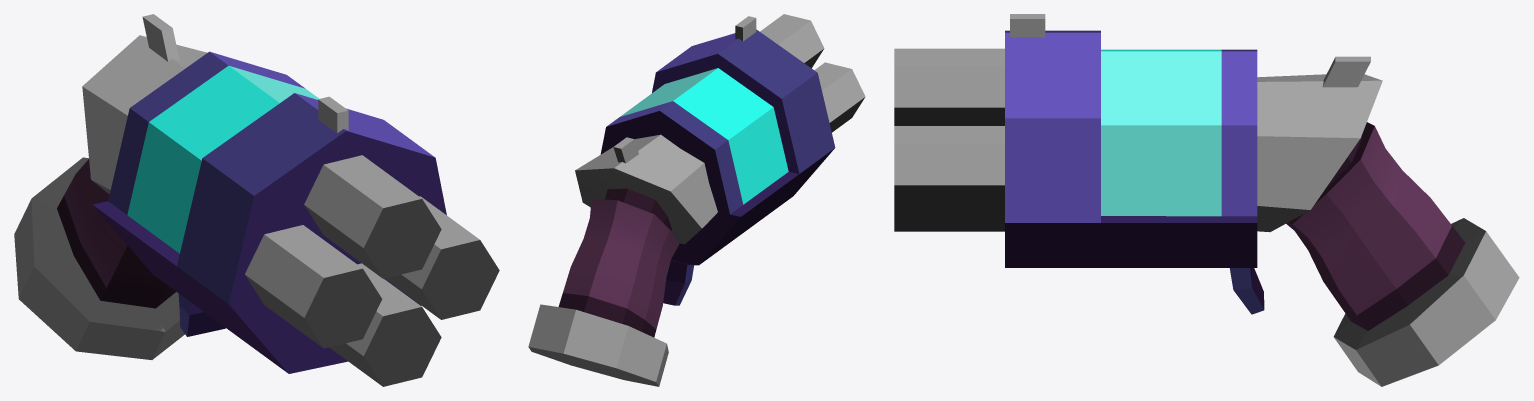
The model's file is Gun.fbx.
3 views of the same model, side by side, from view 1: azimuth 30°, elevation 25°; view 2: azimuth 150°, elevation 25°; view 3: azimuth 270°, elevation 25° (orthographic). The views are drawn at different scales.
Visible parts, largest first — view 1: gun1; view 2: gun1; view 3: gun1.
Part boxes in pixels (left/top/right/bottom): gun1: left=14, top=14, right=499, bottom=386; gun1: left=528, top=14, right=865, bottom=386; gun1: left=894, top=14, right=1519, bottom=386.
Size of the model in its own units: 0.1007 by 0.1638 by 0.2601.
